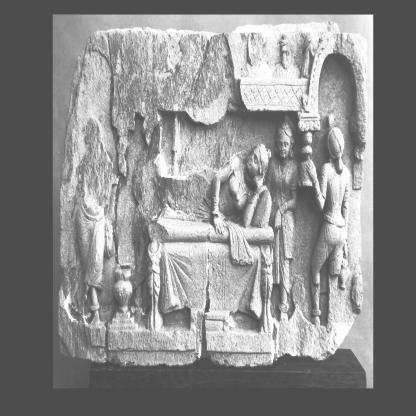buddha-sleeping: (149, 133, 272, 317)
